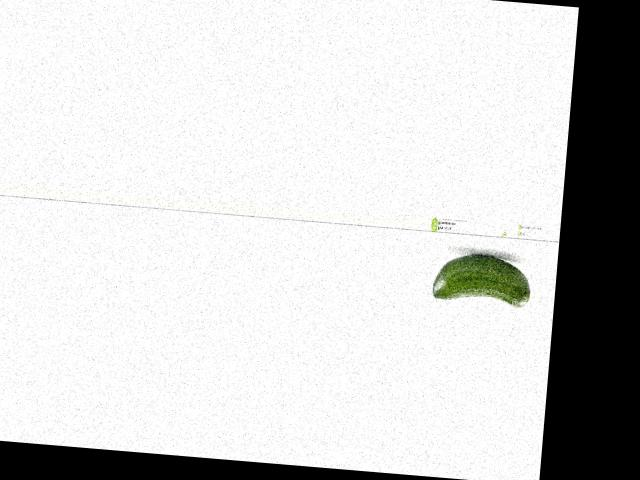cucumber: (432, 250, 533, 306)
